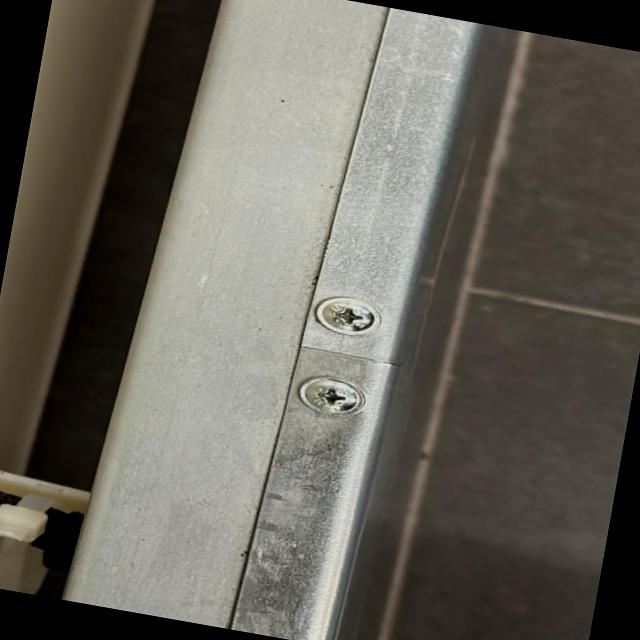Phillips: (276, 362, 398, 434), (308, 294, 385, 346)
